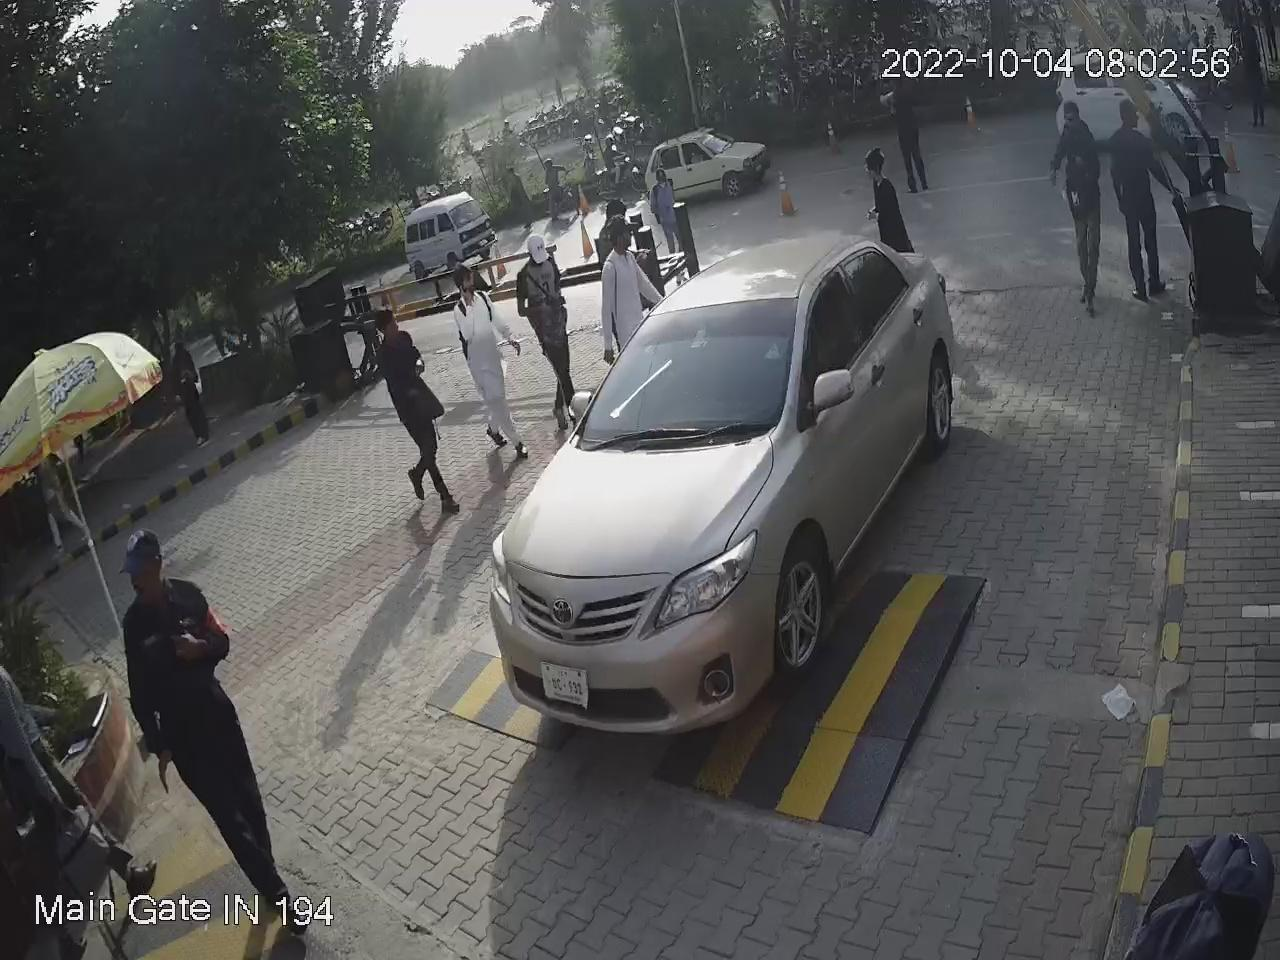windshield: (568, 287, 803, 438)
